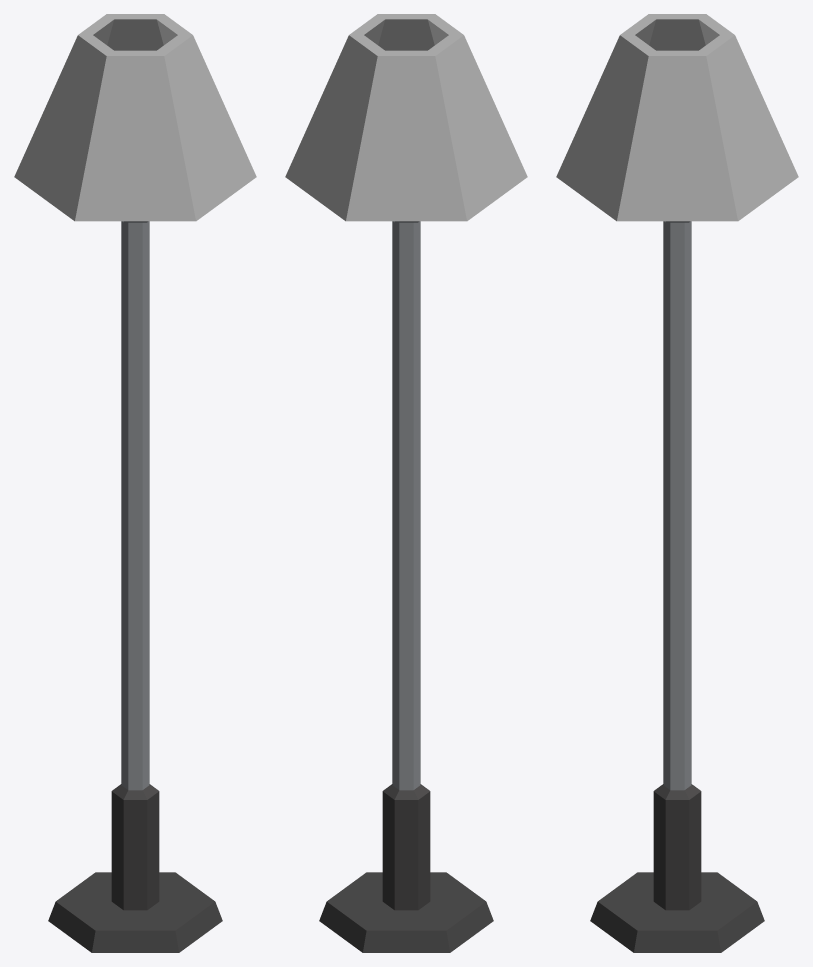
The model's file is Lamp.fbx.
3 views of the same model, side by side, from view 1: azimuth 30°, elevation 25°; view 2: azimuth 150°, elevation 25°; view 3: azimuth 270°, elevation 25° (orthographic).
Visible parts, largest first — view 1: Lamp; view 2: Lamp; view 3: Lamp.
Boxes of the visible parts, x1=… form: Lamp: x1=14, y1=14, x2=256, y2=952; Lamp: x1=285, y1=14, x2=527, y2=952; Lamp: x1=556, y1=14, x2=798, y2=952.
Size of the model in its own units: 36.36 by 169 by 41.99.
1 material, 1 textured.
